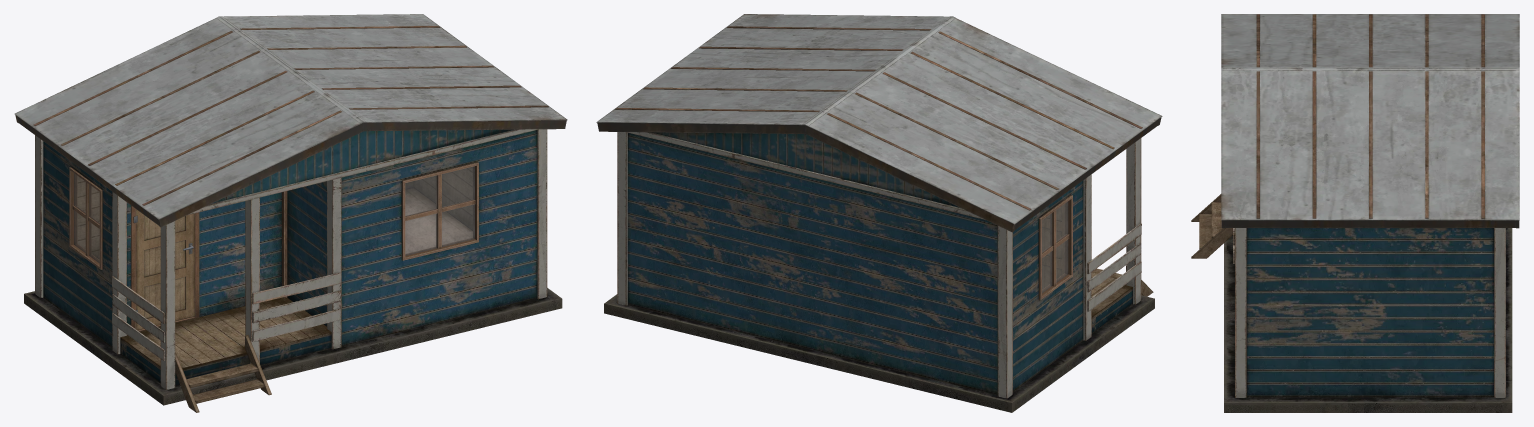
Rendered from shed.glb.
3 renders of one model, left to right at view 1: azimuth 30°, elevation 25°; view 2: azimuth 150°, elevation 25°; view 3: azimuth 270°, elevation 25°, orthographic. The views are drawn at different scales.
Visible parts, largest first — view 1: Main_Exterior3_0, Main_Exterior1_0, Main_Exterior2_0, Door_Exterior4_0, Main_Glass_0, Main_Interior_0; view 2: Main_Exterior1_0, Main_Exterior3_0, Main_Exterior2_0, Door_Exterior4_0, Main_Glass_0; view 3: Main_Exterior3_0, Main_Exterior1_0, Main_Exterior2_0.
Part boxes in pixels (x1=…): Main_Exterior3_0: x1=14, y1=14, x2=567, y2=227; Main_Exterior1_0: x1=43, y1=130, x2=537, y2=412; Main_Exterior2_0: x1=24, y1=129, x2=562, y2=405; Door_Exterior4_0: x1=133, y1=129, x2=538, y2=330; Main_Glass_0: x1=74, y1=166, x2=474, y2=262; Main_Interior_0: x1=77, y1=167, x2=472, y2=259; Main_Exterior1_0: x1=627, y1=133, x2=1153, y2=395; Main_Exterior3_0: x1=596, y1=14, x2=1162, y2=232; Main_Exterior2_0: x1=604, y1=132, x2=1154, y2=412; Door_Exterior4_0: x1=626, y1=132, x2=1064, y2=289; Main_Glass_0: x1=1042, y1=201, x2=1068, y2=293; Main_Exterior3_0: x1=1221, y1=14, x2=1519, y2=228; Main_Exterior1_0: x1=1191, y1=194, x2=1494, y2=397; Main_Exterior2_0: x1=1224, y1=228, x2=1512, y2=412.
Size of the model in its own units: 4.2 by 2.32 by 2.83.
Materials: 6 (6 with a texture image).
